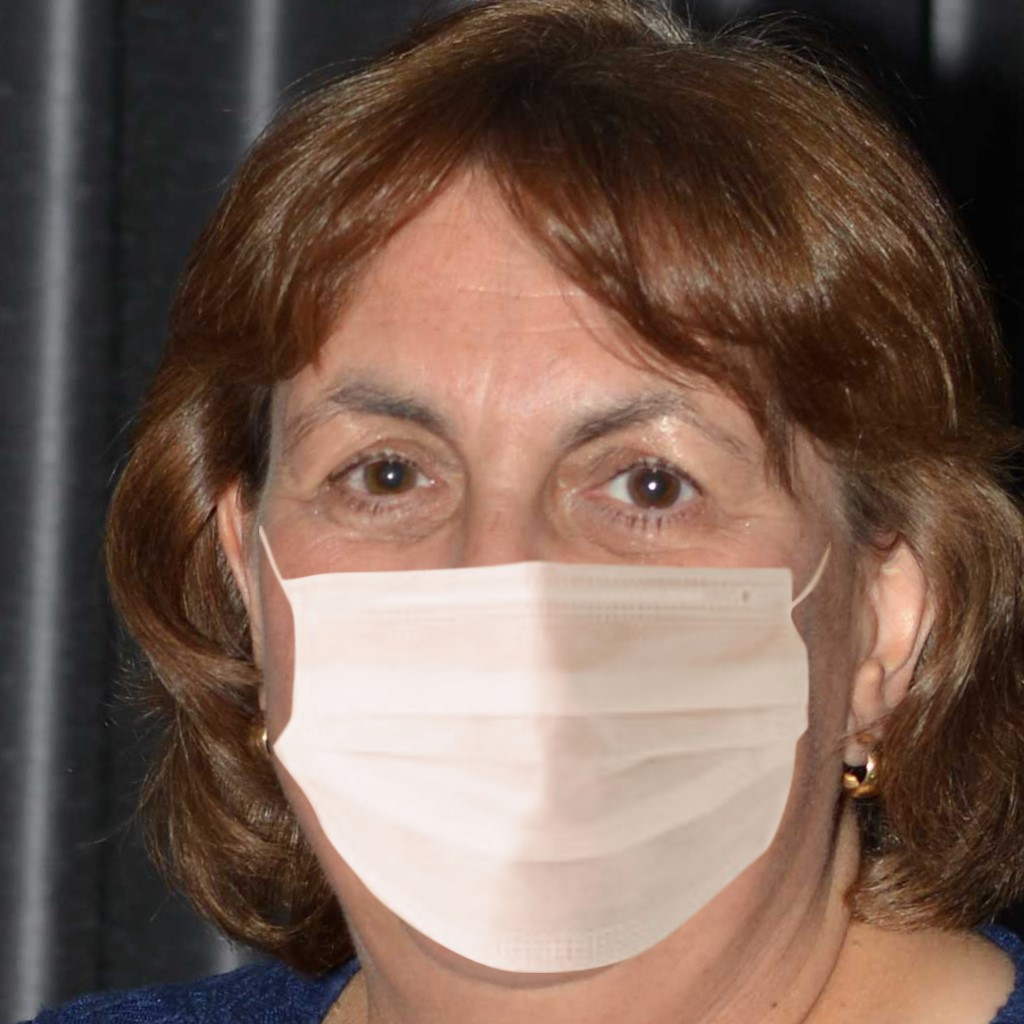con_mascara: (243, 144, 902, 967)
